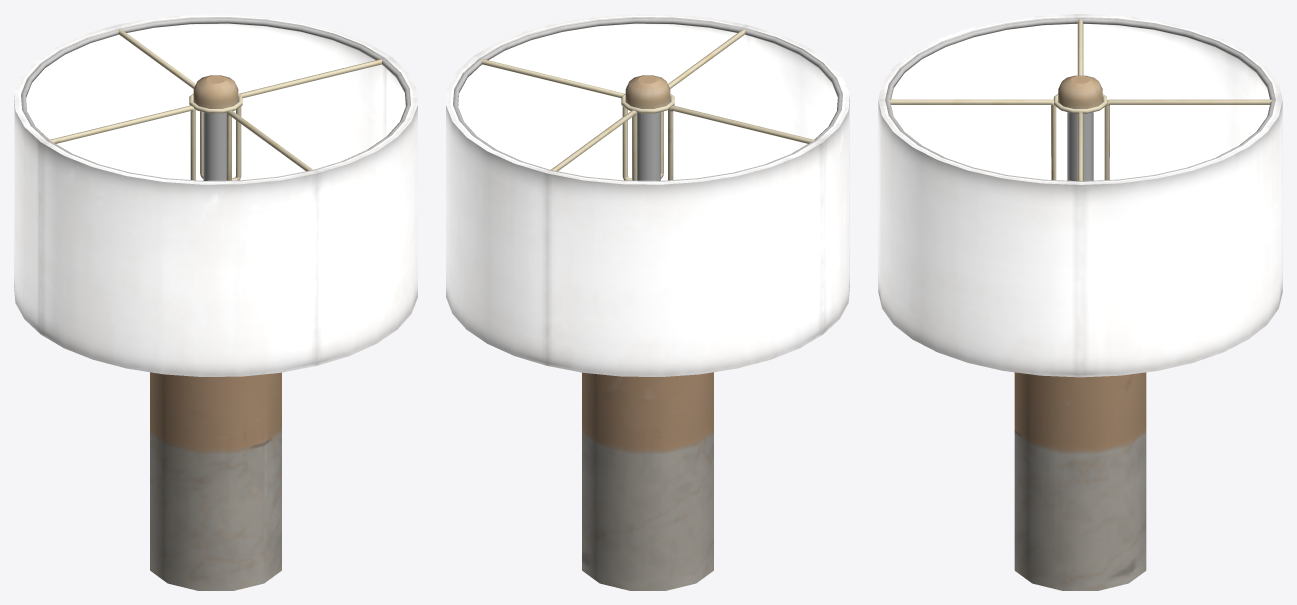
The model's file is SM_KitchenLamp.fbx.
3 views of the same model, side by side, from view 1: azimuth 30°, elevation 25°; view 2: azimuth 150°, elevation 25°; view 3: azimuth 270°, elevation 25° (orthographic).
Parts seen in each view (by area): view 1: SM_KitchenLamp_LOD0; view 2: SM_KitchenLamp_LOD0; view 3: SM_KitchenLamp_LOD0.
Boxes of the visible parts, left/top/right/bottom form: SM_KitchenLamp_LOD0: left=14, top=14, right=417, bottom=590; SM_KitchenLamp_LOD0: left=446, top=14, right=849, bottom=590; SM_KitchenLamp_LOD0: left=878, top=14, right=1282, bottom=590.
Bounding box in the file's own units: 44.66 × 44.66 × 58.86.
